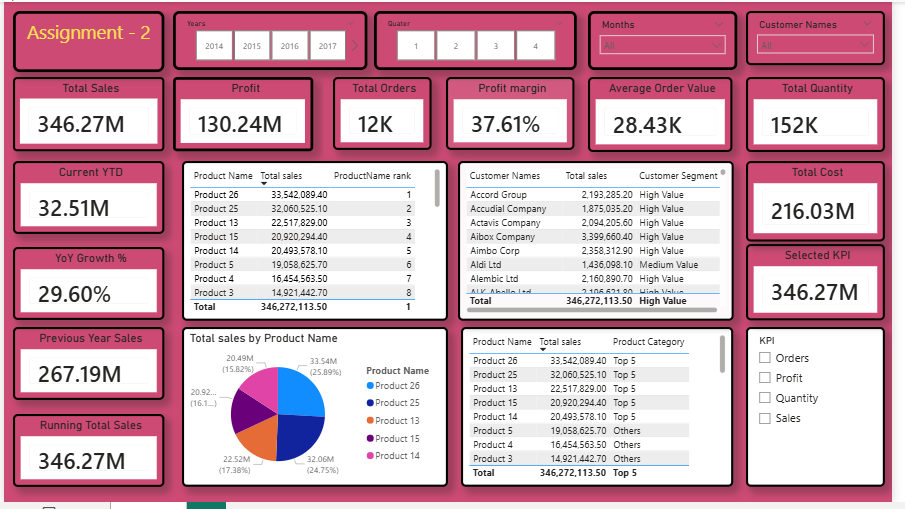

What the dashboard file says about the page in this screenshot:
{"tool":"powerbi","page":{"name":"Page 1","canvas":[1280,720],"ordinal":0},"visuals":[{"type":"tableEx","fields":{"Values":["Products_Data.Product Name","DAX measures.Product Category","DAX measures.Total sales"]},"box":[658.6,468.6,410,230],"z":0},{"type":"cardVisual","title":"Total Quantity","fields":{"Data":["DAX measures.Total quantity"]},"box":[1078.6,108.6,190,108.6],"z":1000},{"type":"cardVisual","title":"Profit margin","fields":{"Data":["DAX measures.Profit margin"]},"box":[640,108.6,184.3,104.3],"z":2000},{"type":"cardVisual","title":"Total Sales","fields":{"Data":["DAX measures.Total sales"]},"box":[13.3,108.3,218.3,106.7],"z":3000},{"type":"cardVisual","title":"Profit","fields":{"Data":["DAX measures.Profit"]},"box":[243.3,108.3,201.7,106.7],"z":4000},{"type":"cardVisual","title":"Total Orders","fields":{"Data":["DAX measures.Total Orders"]},"box":[460,108.6,155.7,104.3],"z":5000},{"type":"cardVisual","title":"Average Order Value","fields":{"Data":["DAX measures.Average Order Value"]},"box":[841.4,108.6,227.1,108.6],"z":6000},{"type":"textbox","box":[13.3,13.3,218.3,88.3],"z":7000},{"type":"cardVisual","title":"Current YTD","fields":{"Data":["DAX measures.Current YTD"]},"box":[13.3,228.3,218.3,105],"z":8000},{"type":"cardVisual","title":"YoY Growth %","fields":{"Data":["DAX measures.YoY Growth %"]},"box":[13.3,353.3,218.3,105],"z":9000},{"type":"cardVisual","title":"Previous Year Sales","fields":{"Data":["DAX measures.Previous years sales"]},"box":[13.3,468.3,218.3,105],"z":10000},{"type":"cardVisual","title":"Running Total Sales","fields":{"Data":["DAX measures.Running Total Sales"]},"box":[13.3,593.3,218.3,105],"z":11000},{"type":"barChart","title":"Top 10 Total sales by Product Name","fields":{"Category":["Products_Data.Product Name"],"Y":["DAX measures.Total sales"]},"box":[242.9,228.6,397.1,230],"z":12000},{"type":"pieChart","title":"Top 5 Total sales by Product Name","fields":{"Y":["DAX measures.Total sales"],"Category":["Products_Data.Product Name"]},"box":[242.9,468.6,397.1,230],"z":13000},{"type":"tableEx","fields":{"Values":["Customer_Data.Customer Names","DAX measures.Customer Segment","DAX measures.Total sales"]},"box":[654.3,230,414.3,230],"z":14000},{"type":"slicer","title":"Dynamic KPI","fields":{"Values":["KPI Table.KPI"]},"box":[1078.6,468.6,190,230],"z":15000},{"type":"cardVisual","title":"Selected KPI","fields":{"Data":["DAX measures.Selected KPI"]},"box":[1078.6,348.6,190,110],"z":16000},{"type":"slicer","title":"Years","fields":{"Values":["Date.Years"]},"box":[243.3,13.3,280,85],"z":17000},{"type":"slicer","title":"Quater","fields":{"Values":["Date.Quater"]},"box":[533.3,13.3,291.7,85],"z":18000},{"type":"slicer","title":"months","fields":{"Values":["Date.Months"]},"box":[841.7,13.3,215,85],"z":19000},{"type":"slicer","title":"Coustomer Name","fields":{"Values":["Customer_Data.Customer Names"]},"box":[1068.3,13.3,200,78.3],"z":20000},{"type":"cardVisual","title":"Total Cost","fields":{"Data":["DAX measures.Total cost"]},"box":[1078.6,228.6,190,115.7],"z":21000}]}

Visuals, with their boxes in screenshot pixels (x1, y1, x2, y2), scaled from the page's 1280x720 canvas onto the 905x509 screenshot:
tableEx - Products_Data.Product Name x DAX measures.Product Category: locate(466, 331, 756, 494)
"Total Quantity" cardVisual: locate(763, 77, 897, 154)
"Profit margin" cardVisual: locate(452, 77, 583, 151)
"Total Sales" cardVisual: locate(9, 77, 164, 152)
"Profit" cardVisual: locate(172, 77, 315, 152)
"Total Orders" cardVisual: locate(325, 77, 435, 151)
"Average Order Value" cardVisual: locate(595, 77, 755, 154)
textbox: locate(9, 9, 164, 72)
"Current YTD" cardVisual: locate(9, 161, 164, 236)
"YoY Growth %" cardVisual: locate(9, 250, 164, 324)
"Previous Year Sales" cardVisual: locate(9, 331, 164, 405)
"Running Total Sales" cardVisual: locate(9, 419, 164, 494)
"Top 10 Total sales by Product Name" barChart: locate(172, 162, 452, 324)
"Top 5 Total sales by Product Name" pieChart: locate(172, 331, 452, 494)
tableEx - Customer_Data.Customer Names x DAX measures.Customer Segment: locate(463, 163, 756, 325)
"Dynamic KPI" slicer: locate(763, 331, 897, 494)
"Selected KPI" cardVisual: locate(763, 246, 897, 324)
"Years" slicer: locate(172, 9, 370, 69)
"Quater" slicer: locate(377, 9, 583, 69)
"months" slicer: locate(595, 9, 747, 69)
"Coustomer Name" slicer: locate(755, 9, 897, 65)
"Total Cost" cardVisual: locate(763, 162, 897, 243)
